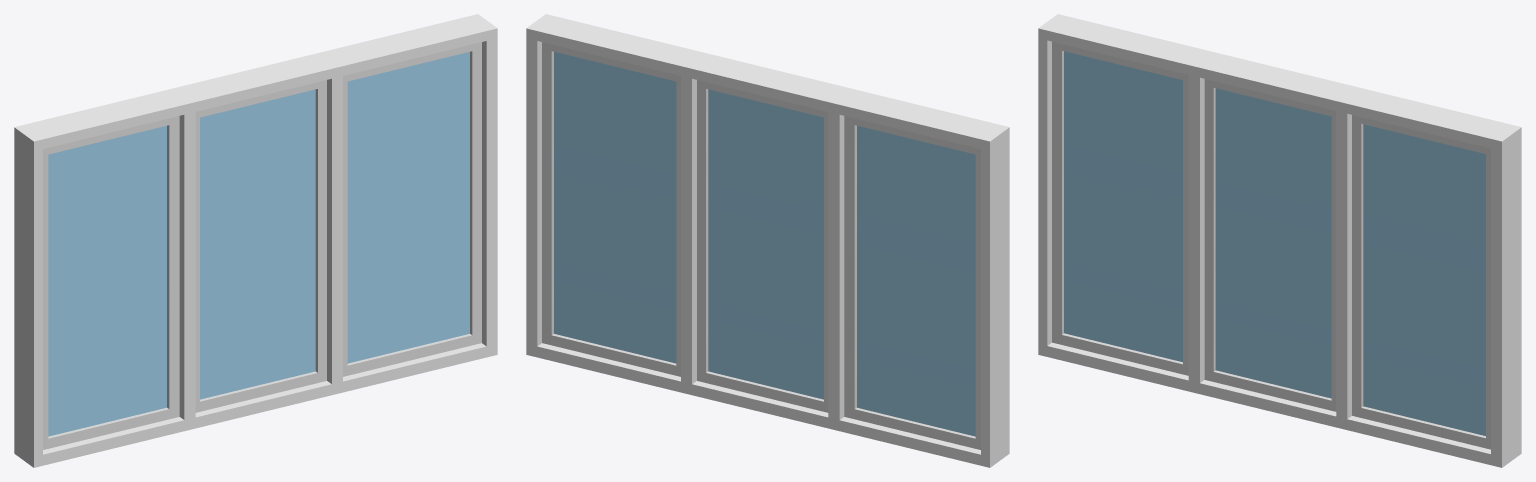
The model's file is window_021.fbx.
3 renders of one model, left to right at view 1: azimuth 30°, elevation 25°; view 2: azimuth 150°, elevation 25°; view 3: azimuth 330°, elevation 25°, orthographic.
Parts seen in each view (by area): view 1: window_021; view 2: window_021; view 3: window_021.
Boxes of the visible parts, x1=… form: window_021: x1=14, y1=14, x2=497, y2=467; window_021: x1=526, y1=14, x2=1009, y2=467; window_021: x1=1038, y1=14, x2=1521, y2=467.
Bounding box in the file's own units: 316 × 23.19 × 212.
